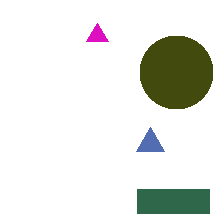circle: (140, 36, 212, 108)
rectangle: (137, 189, 209, 213)
triangle: (136, 127, 164, 151), (86, 23, 108, 41)
